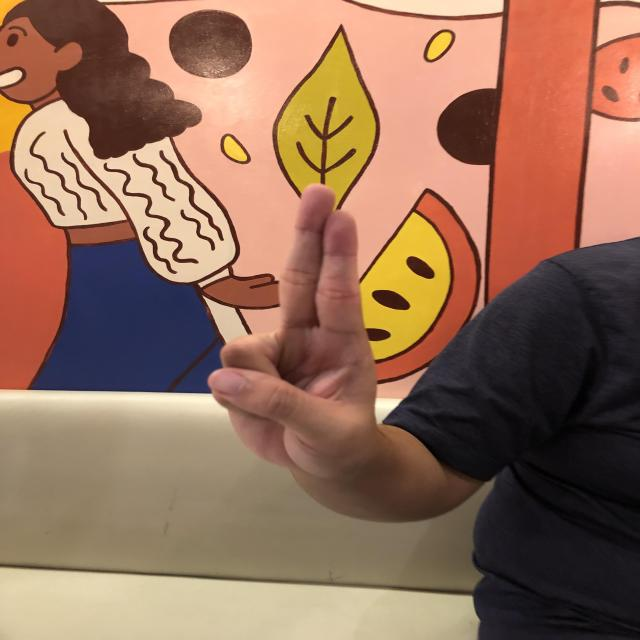U: (205, 181, 380, 477)
